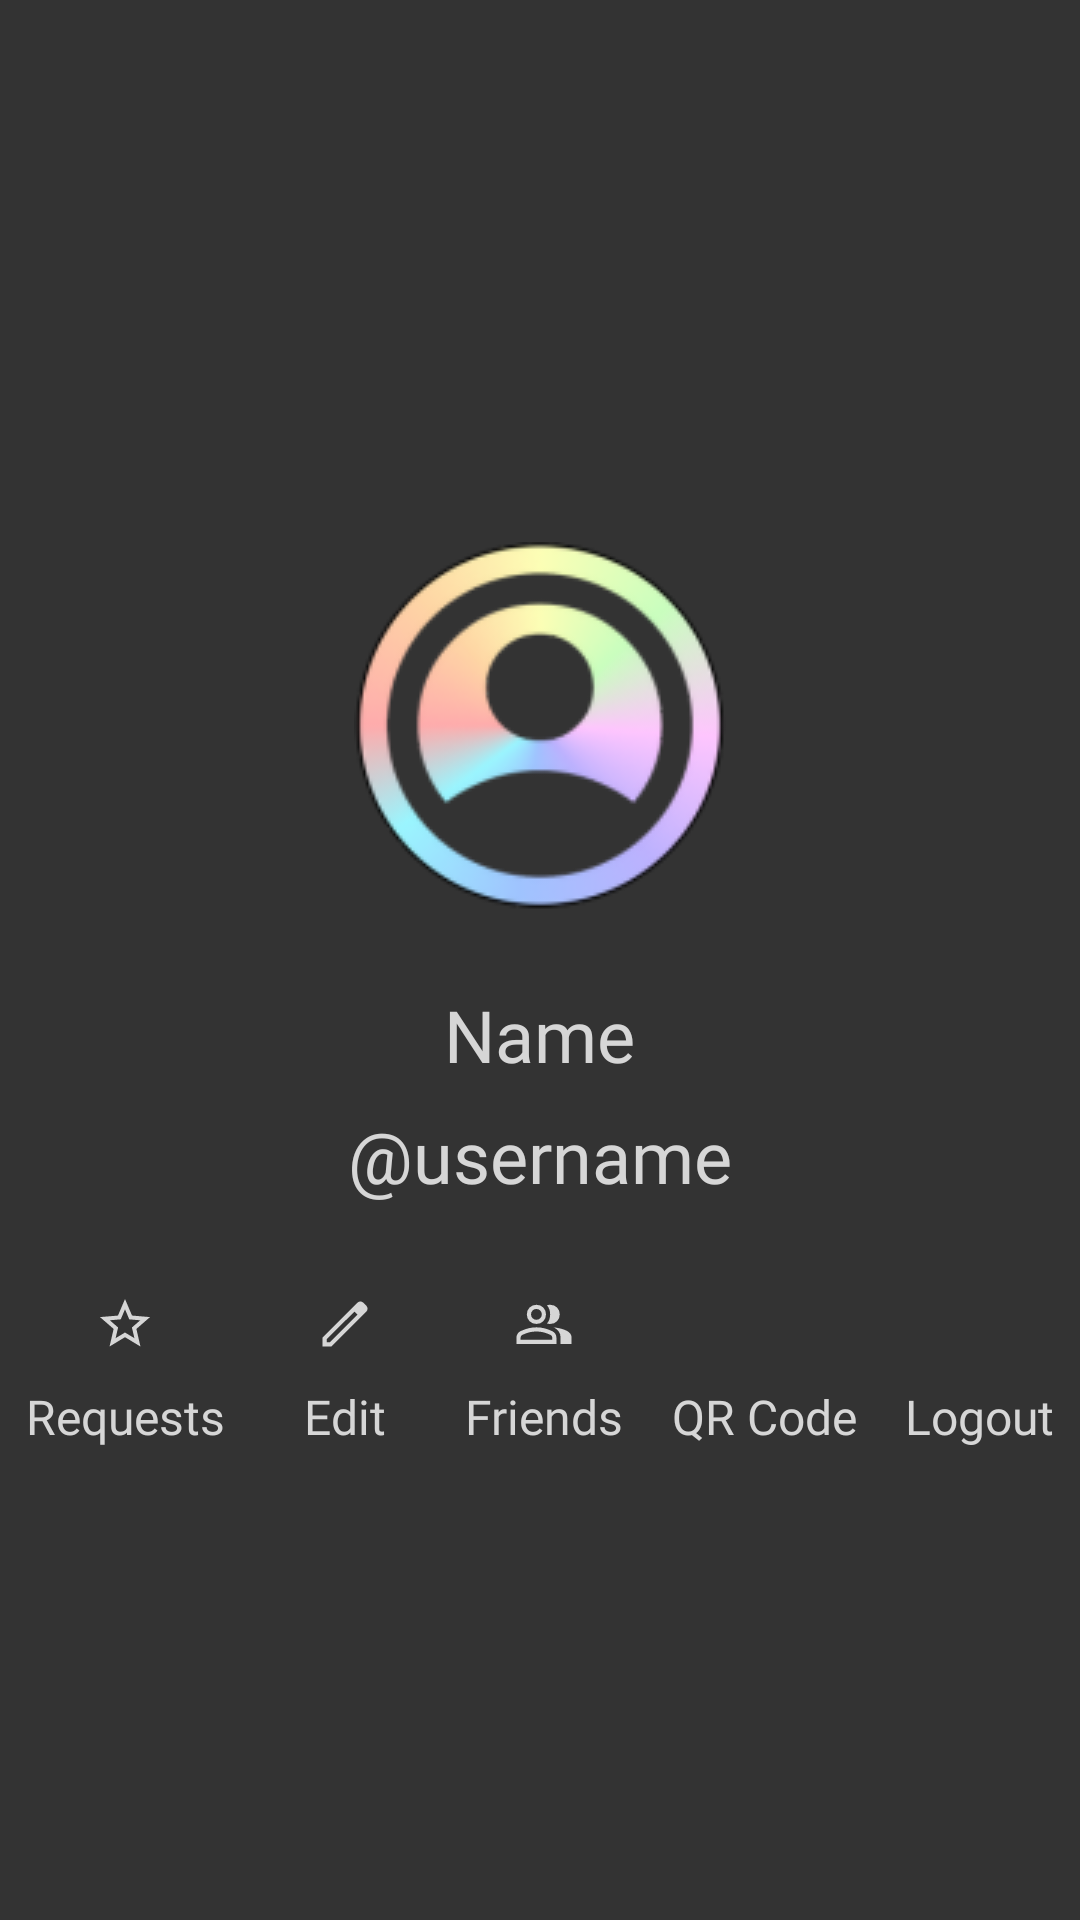

Icons on this 1080*1920 Android screen, each with the point to tap as [x,y]:
star: [125,1322]
